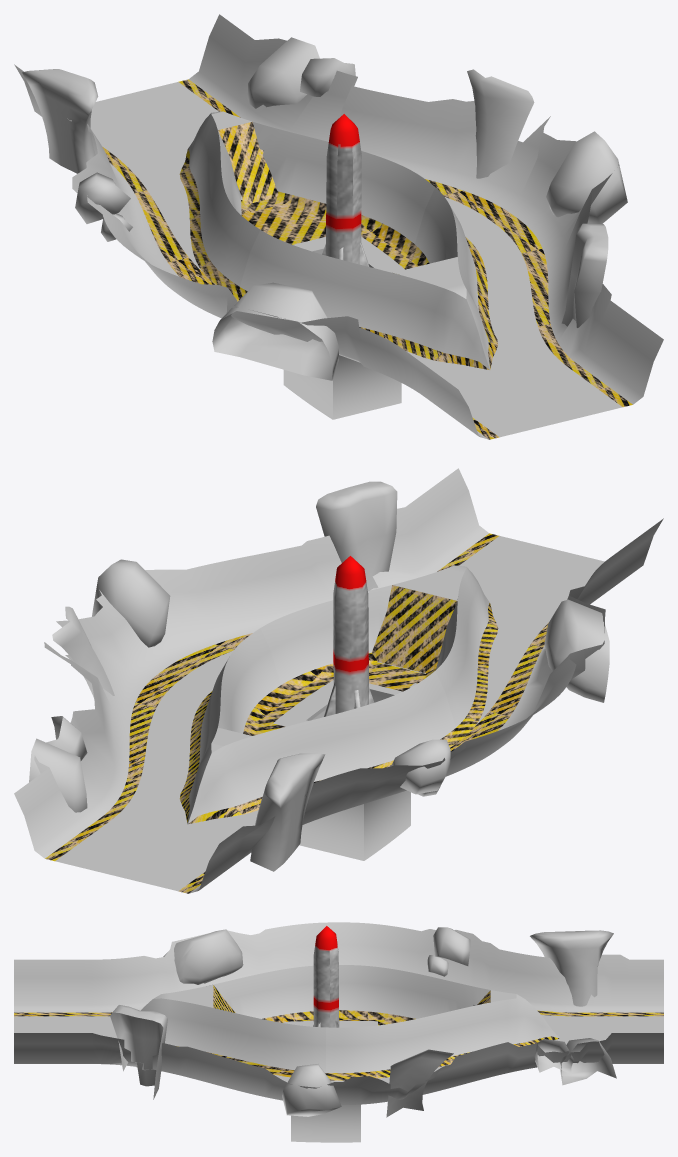
File: split_Chunk.fbx
3 renders of one model, top to bottom at view 1: azimuth 30°, elevation 25°; view 2: azimuth 150°, elevation 25°; view 3: azimuth 270°, elevation 25°, orthographic. The views are drawn at different scales.
Parts seen in each view (by area): view 1: split_Chunk; view 2: split_Chunk; view 3: split_Chunk.
Boxes of the visible parts, x1,y1,x2,y2 form: split_Chunk: [14, 14, 663, 439]; split_Chunk: [14, 468, 663, 893]; split_Chunk: [14, 922, 663, 1142].
Bounding box in the file's own units: 91.2 × 51.99 × 150.
